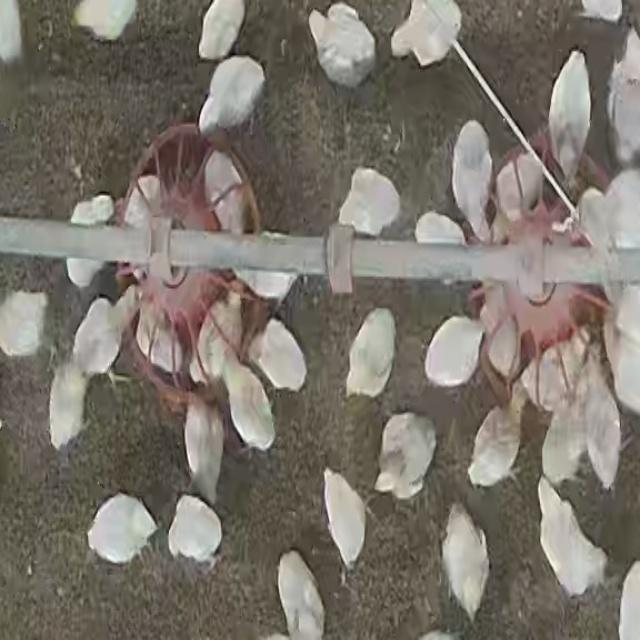chicken: (536, 480, 605, 599), (520, 320, 593, 413), (228, 214, 300, 304), (218, 349, 273, 455), (308, 3, 376, 88), (548, 50, 592, 180), (441, 504, 488, 622), (197, 54, 266, 134), (580, 362, 621, 491), (377, 412, 435, 502), (450, 121, 493, 239), (86, 493, 156, 565), (466, 401, 522, 491), (410, 211, 474, 289), (129, 288, 185, 377), (193, 291, 245, 386), (65, 196, 115, 292), (125, 177, 170, 283), (345, 307, 397, 398), (606, 31, 640, 169), (391, 0, 461, 66), (607, 285, 640, 420), (337, 167, 401, 236), (322, 471, 366, 571), (479, 275, 520, 382), (424, 316, 484, 389), (167, 493, 224, 568), (541, 395, 587, 486), (276, 552, 324, 639), (71, 298, 123, 378), (183, 397, 222, 503), (203, 151, 248, 235), (496, 152, 543, 232), (256, 318, 306, 392), (48, 363, 85, 456), (0, 291, 47, 358), (576, 186, 613, 270), (602, 168, 640, 249), (197, 0, 246, 60)
